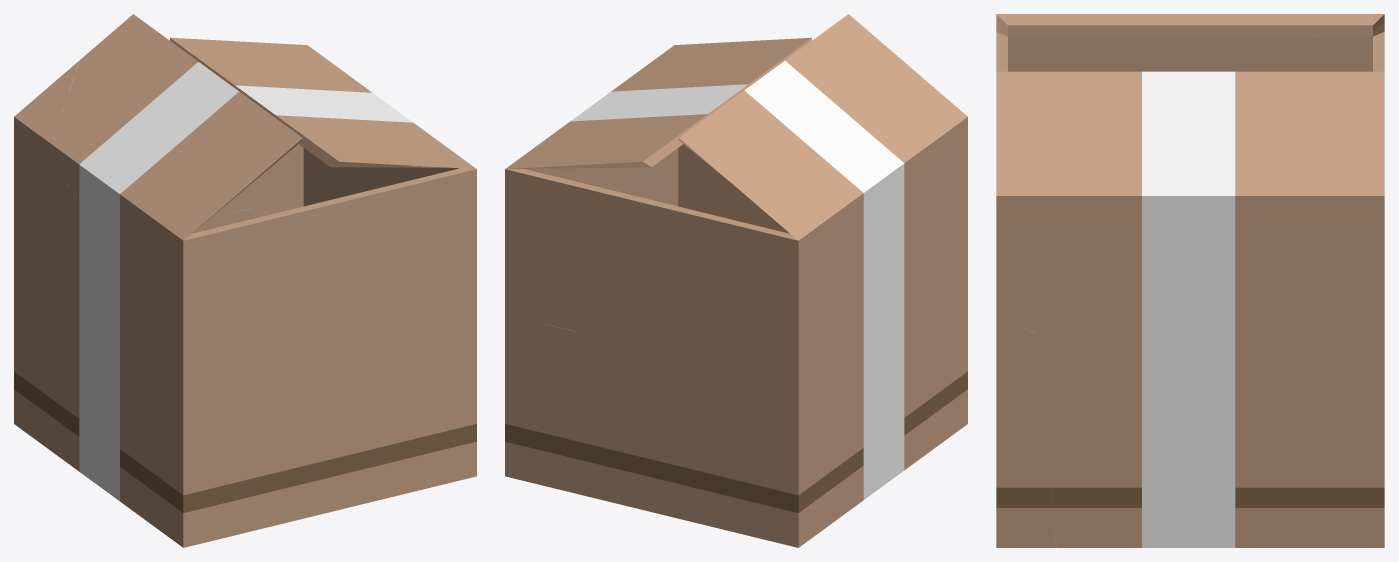
Rendered from destructible-cartoonbox2-chunk.glb.
The picture shows the model from 3 angles, left to right: view 1: azimuth 30°, elevation 25°; view 2: azimuth 150°, elevation 25°; view 3: azimuth 270°, elevation 25°; orthographic projection. The views are drawn at different scales.
Parts seen in each view (by area): view 1: Cube_cell.005, Cube_cell.001, Cube_cell.004, Cube_cell, Cube_cell.002, Cube_cell.003; view 2: Cube_cell.002, Cube_cell.005, Cube_cell.004, Cube_cell, Cube_cell.003, Cube_cell.001; view 3: Cube_cell.004, Cube_cell.003, Cube_cell.005, Cube_cell.001, Cube_cell.002.
Boxes of the visible parts, x1,y1,x2,y2 form: Cube_cell.005: (51, 21, 413, 406); Cube_cell.001: (212, 274, 476, 532); Cube_cell.004: (121, 14, 476, 297); Cube_cell: (22, 288, 244, 547); Cube_cell.002: (14, 60, 235, 429); Cube_cell.003: (235, 196, 316, 222); Cube_cell.002: (574, 184, 893, 547); Cube_cell.005: (689, 14, 967, 279); Cube_cell.004: (505, 41, 737, 330); Cube_cell: (807, 272, 967, 541); Cube_cell.003: (505, 180, 665, 493); Cube_cell.001: (664, 160, 789, 233); Cube_cell.004: (996, 14, 1384, 362); Cube_cell.003: (1036, 333, 1384, 547); Cube_cell.005: (996, 14, 1384, 138); Cube_cell.001: (996, 317, 1056, 547); Cube_cell.002: (1264, 22, 1384, 71).
Size of the model in its own units: 2 by 2.48 by 2.
